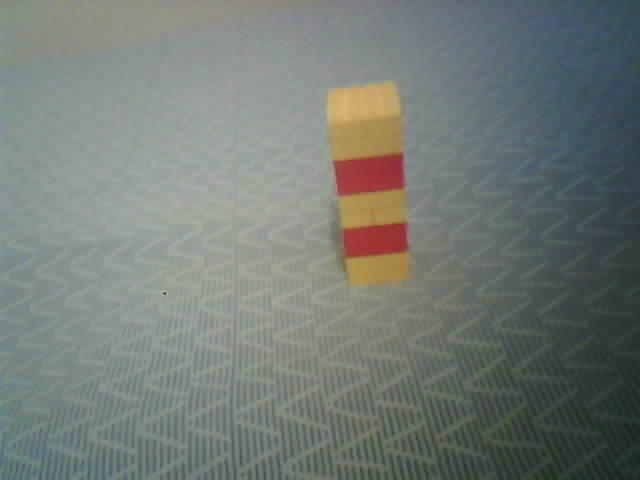lego: (323, 81, 413, 289)
